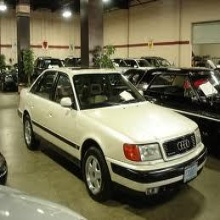no damage: (17, 67, 207, 202), (133, 64, 219, 103)
